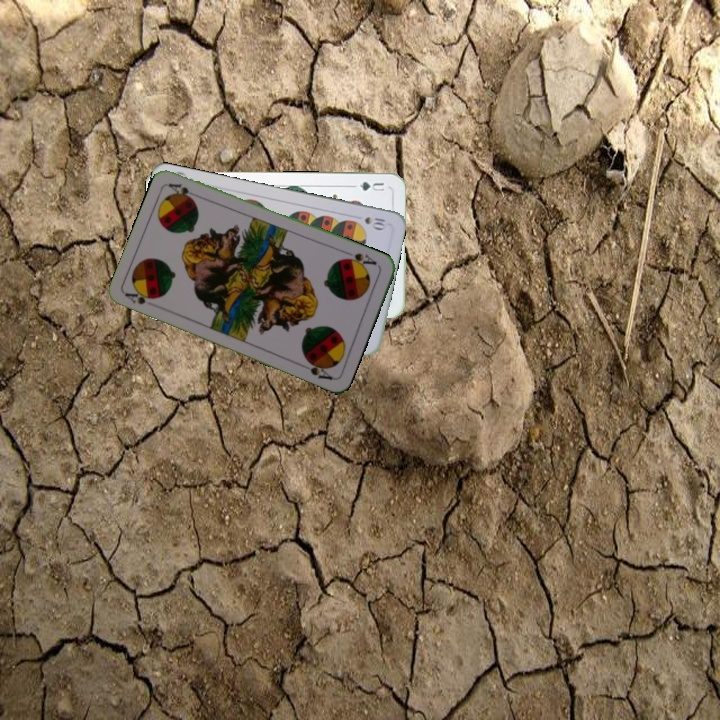GU: (355, 178, 387, 194)
S10: (360, 213, 388, 231)
SA: (340, 249, 379, 271), (121, 286, 159, 307)
